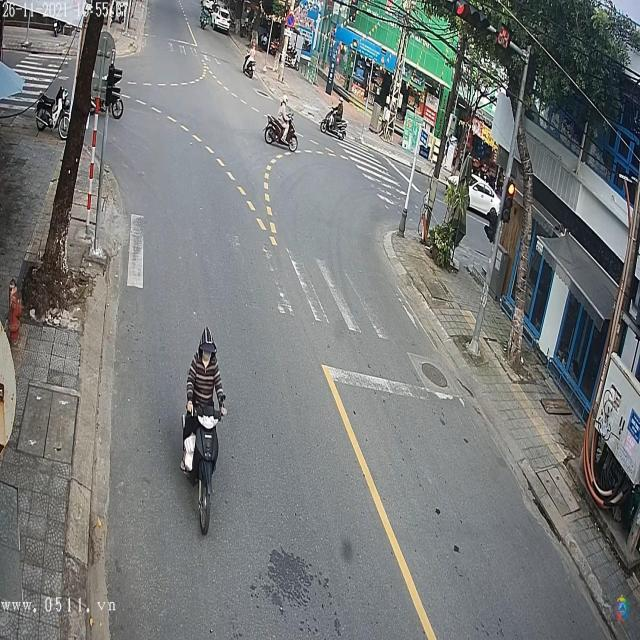motorcycle: (178, 379, 228, 534), (264, 114, 298, 150), (320, 103, 346, 139), (242, 55, 255, 78)
